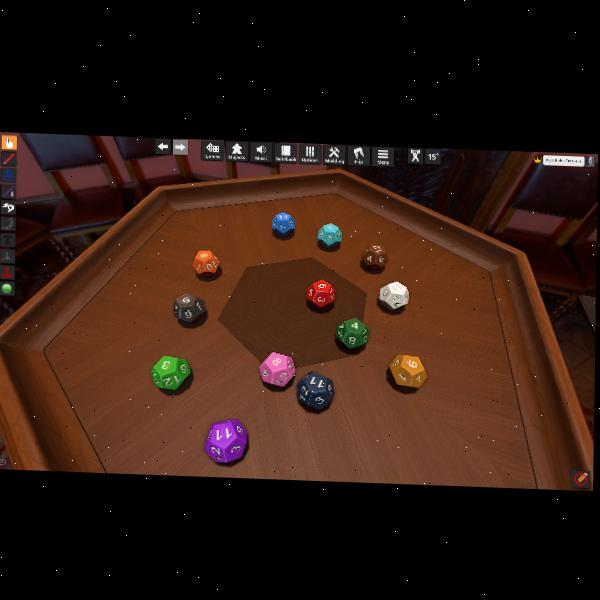d12: (204, 418, 247, 465), (151, 354, 192, 391), (300, 370, 335, 410), (259, 351, 294, 386), (389, 353, 424, 386), (173, 291, 206, 323), (336, 318, 367, 349), (382, 279, 412, 310), (306, 279, 334, 309), (193, 248, 220, 277), (361, 244, 386, 270), (272, 211, 296, 236), (317, 222, 340, 247)
